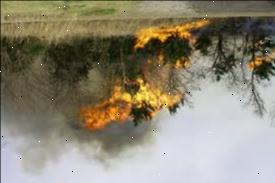fire: (76, 18, 219, 136)
